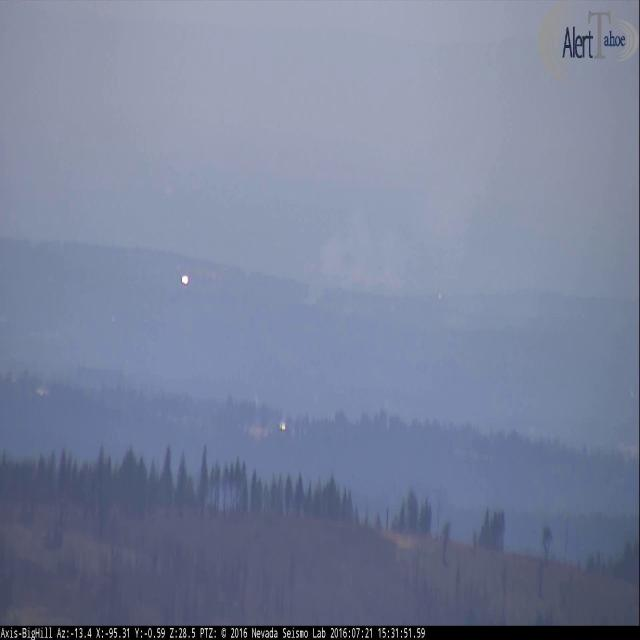smoke: (300, 153, 548, 312)
